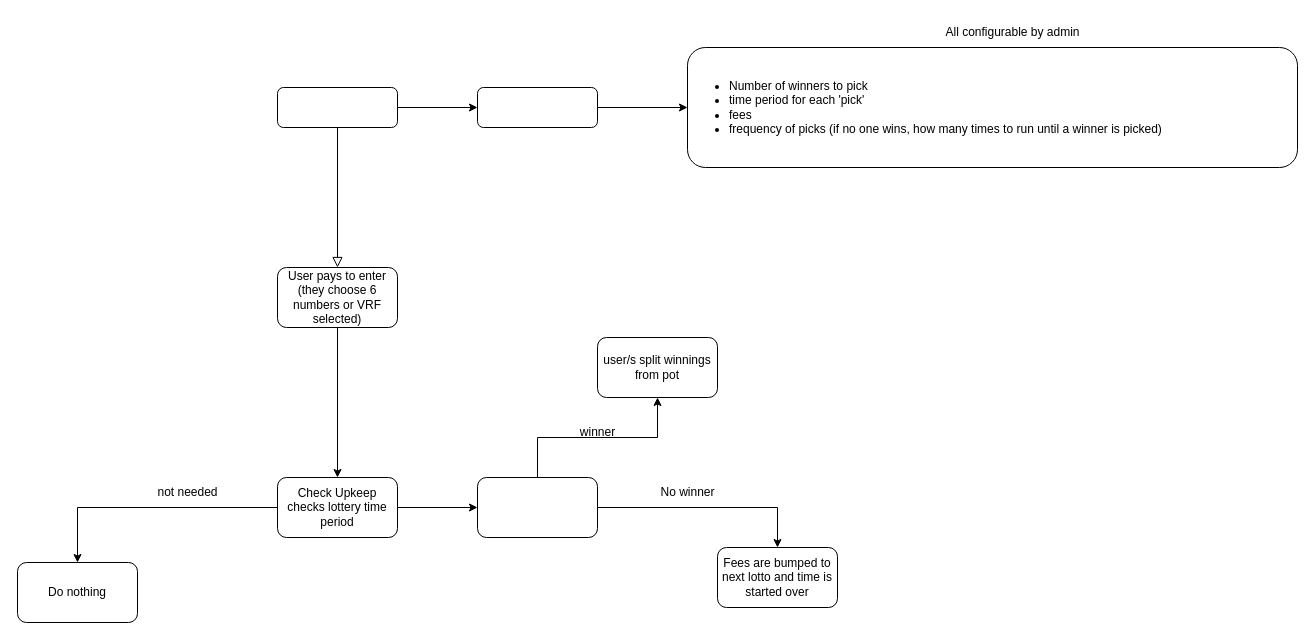
The diagram is 1315 pixels wide and 640 high, and some of its shapes have lost their labels. Here are the shapes that lost their labels. From the top down, the box of each, then its label:
(276, 86, 398, 128): Deploy Contract
(476, 86, 598, 128): Deployer sets
(476, 476, 598, 538): Closes lottery and VRF generates 6 random numbers
